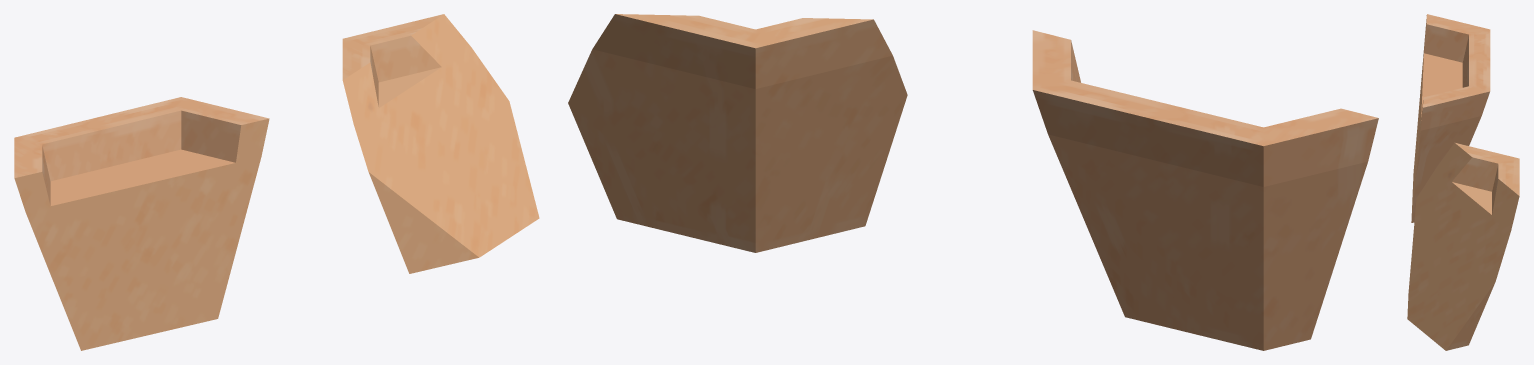
The model's file is baskets_s00.fbx.
3 views of the same model, side by side, from view 1: azimuth 30°, elevation 25°; view 2: azimuth 150°, elevation 25°; view 3: azimuth 270°, elevation 25° (orthographic). The views are drawn at different scales.
Parts seen in each view (by area): view 1: baskets_s00; view 2: baskets_s00; view 3: baskets_s00.
Part boxes in pixels (x1,y1,x2,y2): baskets_s00: (14,14,539,350); baskets_s00: (568,14,1378,350); baskets_s00: (1407,14,1519,350).
Bounding box in the file's own units: 1.94 × 0.62 × 0.4592.
